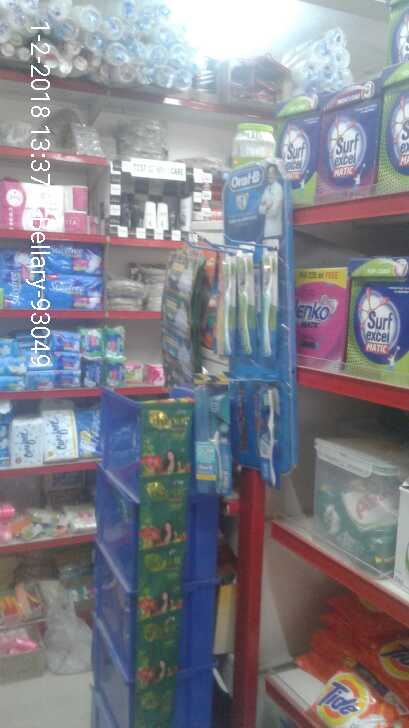home: (290, 646, 409, 724)
pharmacy: (211, 254, 281, 364)
